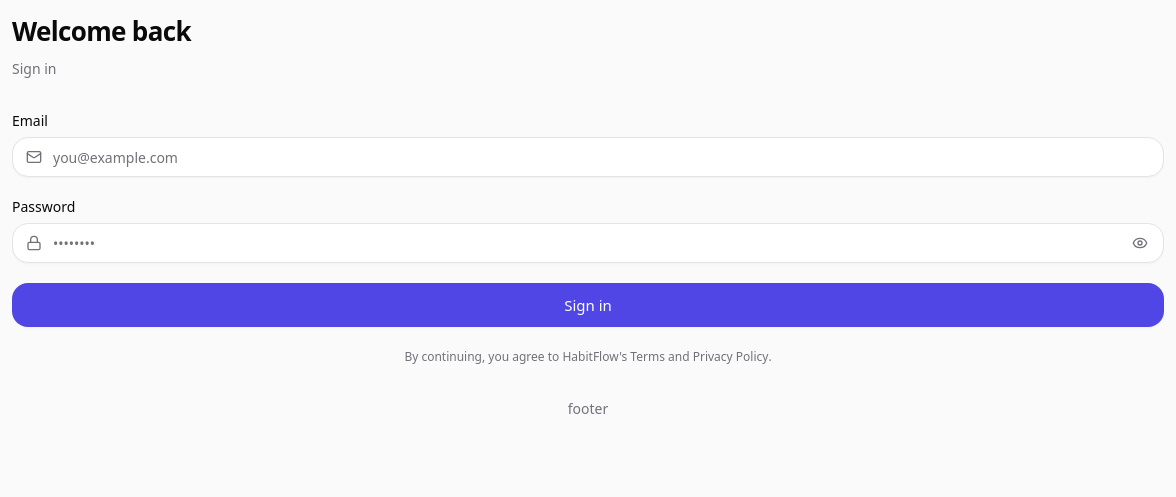
Test case: AuthForm › surfaces the invalid credentials message on a 401
In the field labelled "Email": (588, 157) [12,137,1164,177], type "sara@example.com"
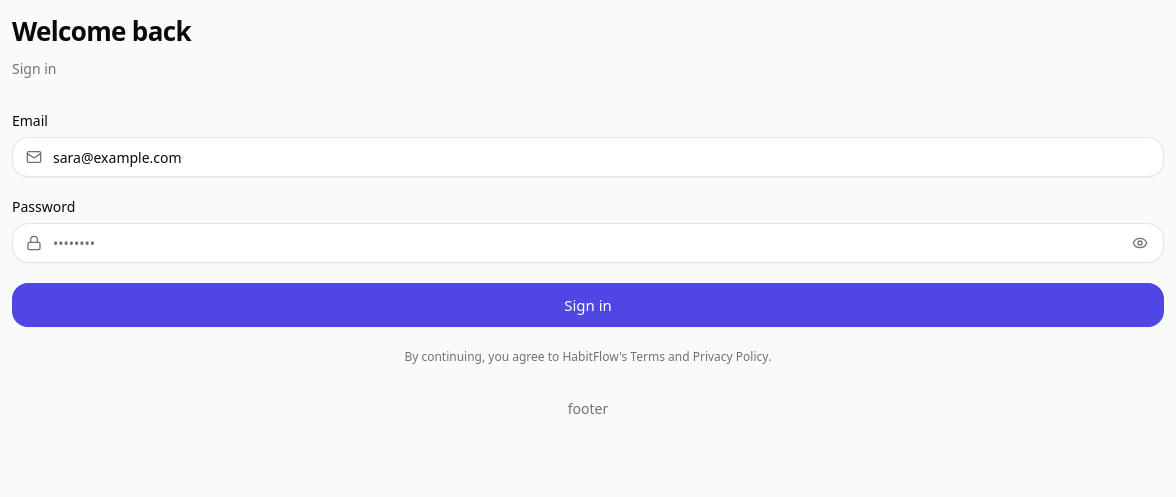
In the password field labelled "Password": (588, 243) [12,223,1164,263], type "wrong"
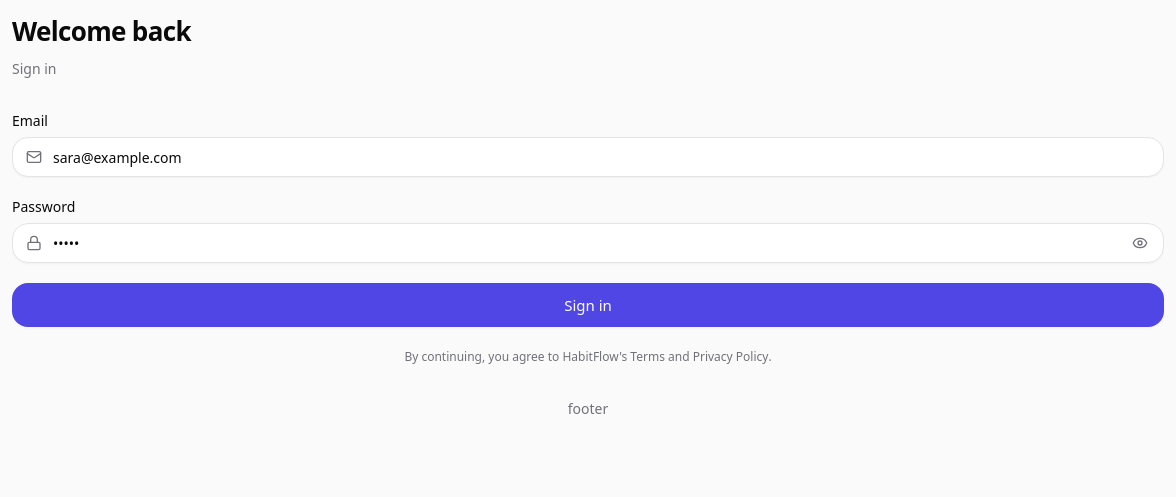
Submit the form "Sign in", box [12,111,1164,366]
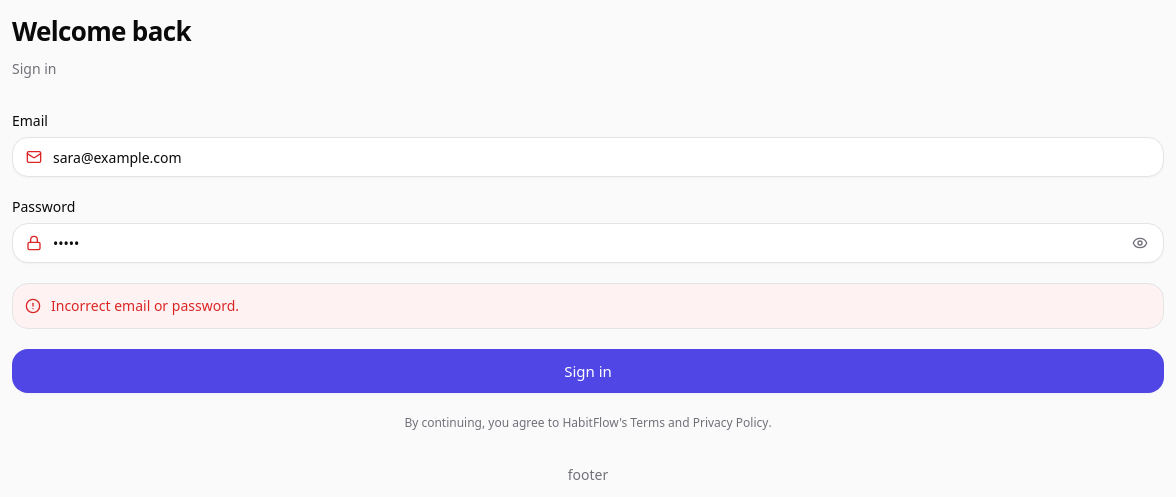
Expected: the message shows "Incorrect email or password", [51,296,239,315]
